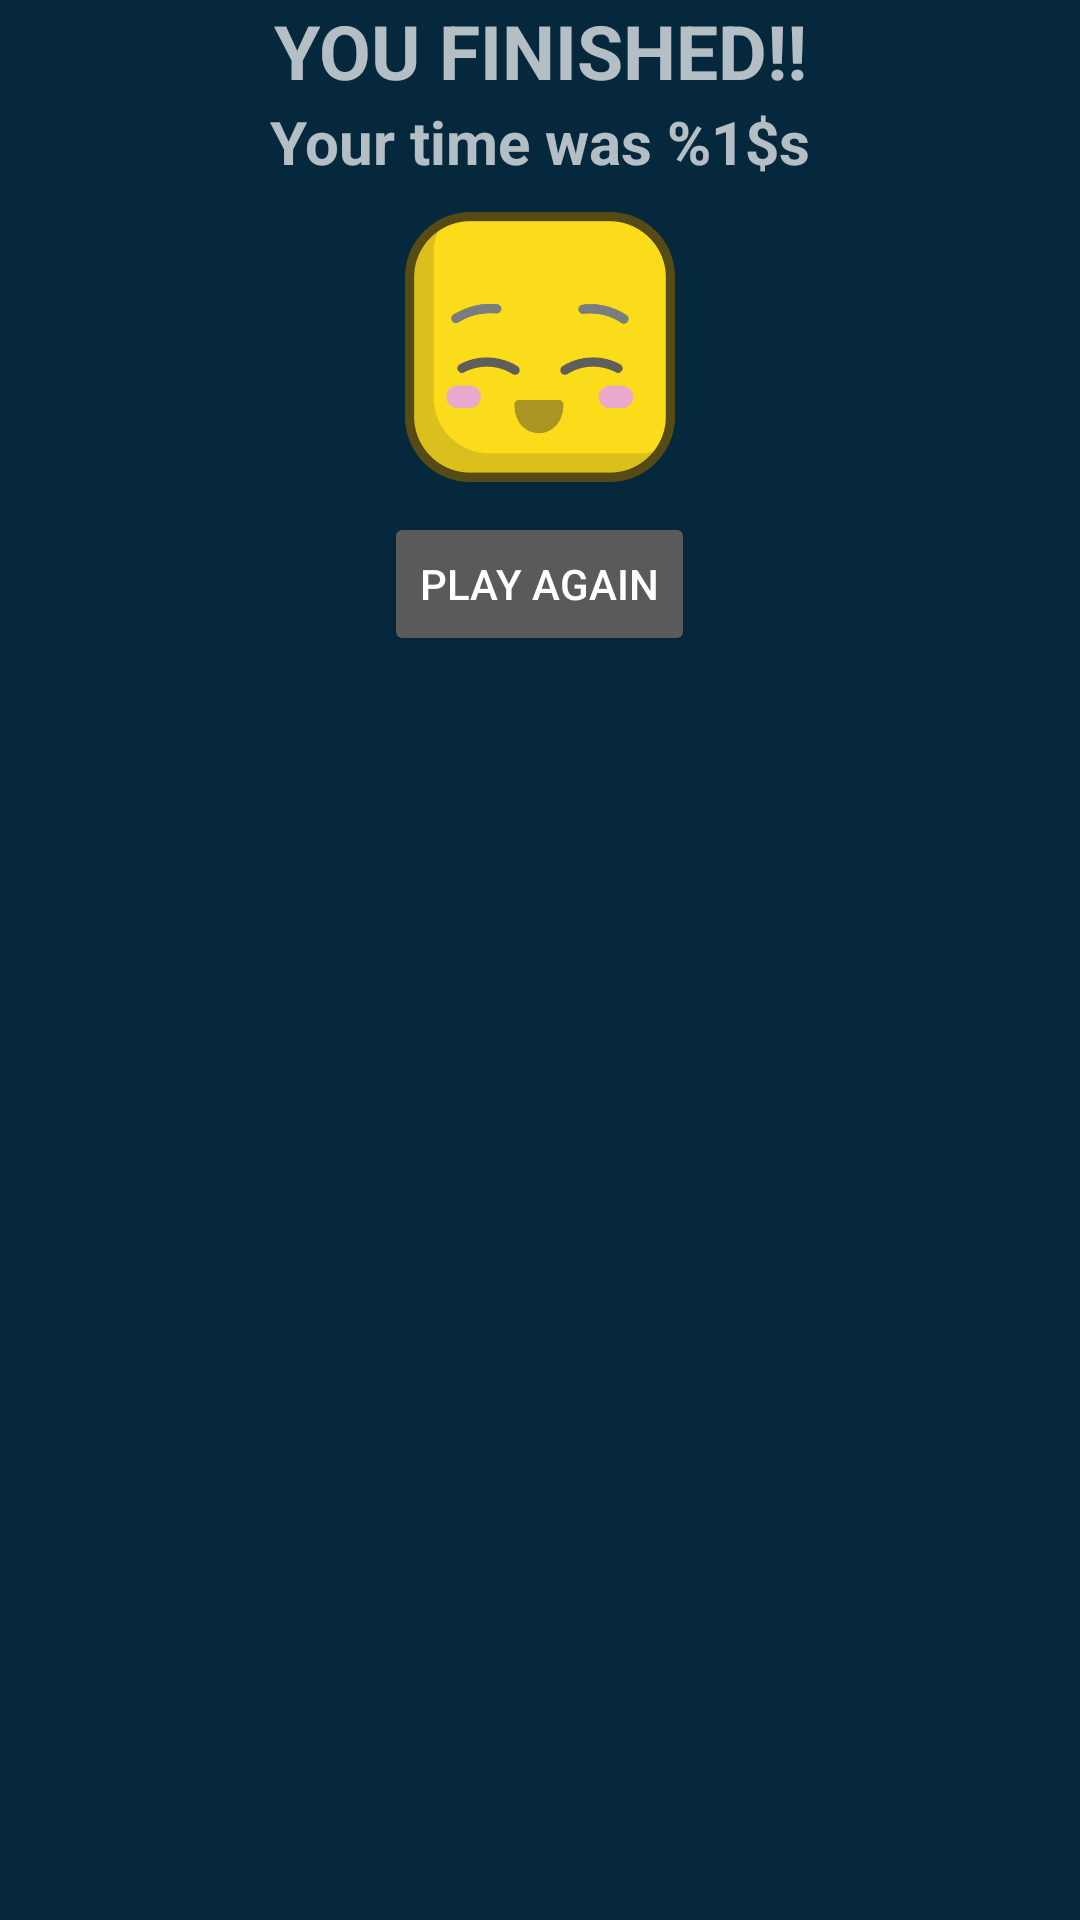

Locate icon controls on the screen. Image size 1080 x 1920, boxes as bbox(x1, y1, x2, y2).
happy: bbox(405, 212, 675, 482)
